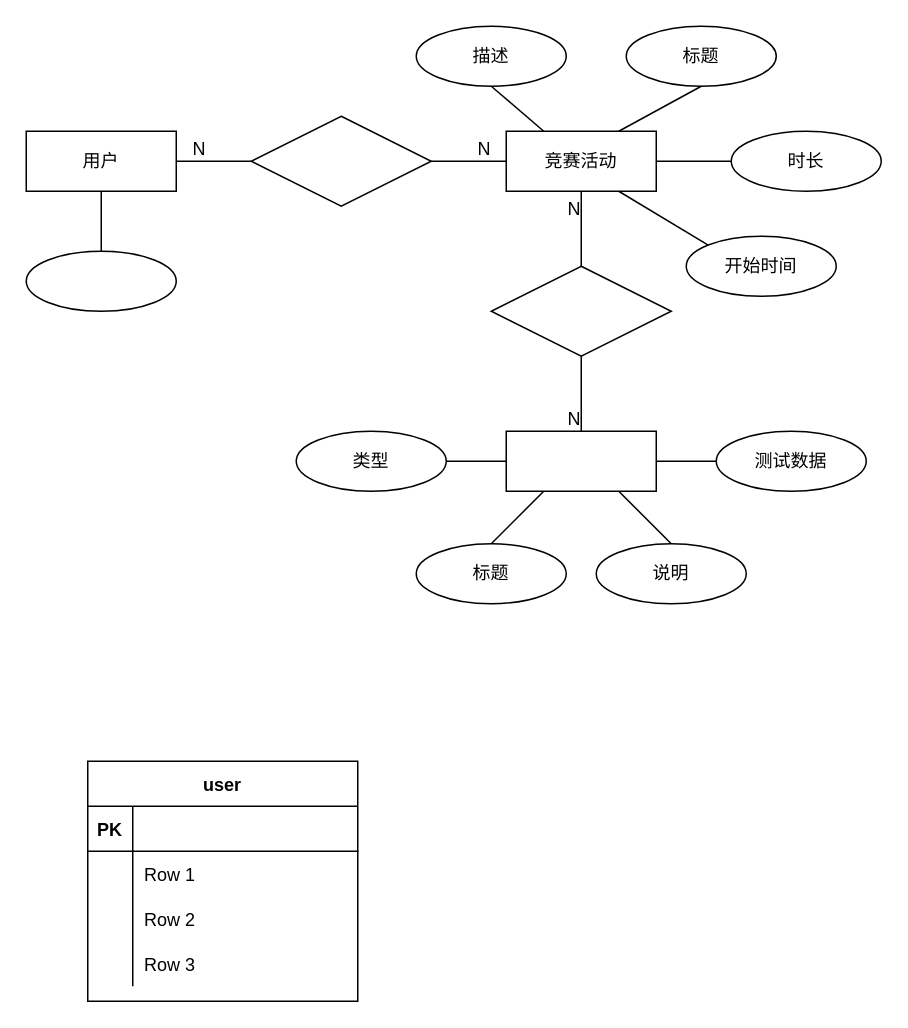
The diagram is 908 pixels wide and 1028 high, and some of its shapes have lost their labels. The shapes that lost their labels are listed below. From the top down, each one's centre as x and y in pixels, then its label:
At [340,160]: "参与".
At [100,280]: "GitHub账户信息".
At [580,310]: "包含".
At [580,460]: "题目".
